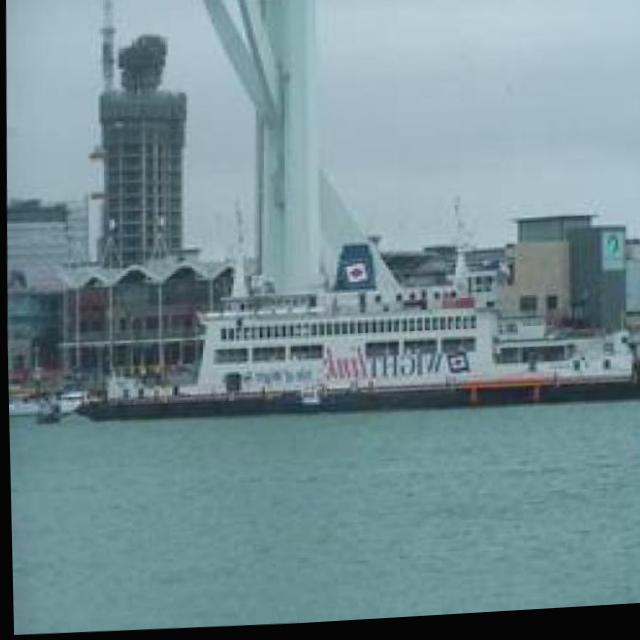ship2: (71, 196, 635, 421)
